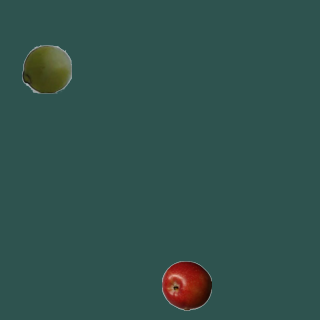Apple Braeburn: (161, 260, 211, 310)
Grape White 4: (21, 43, 71, 93)
